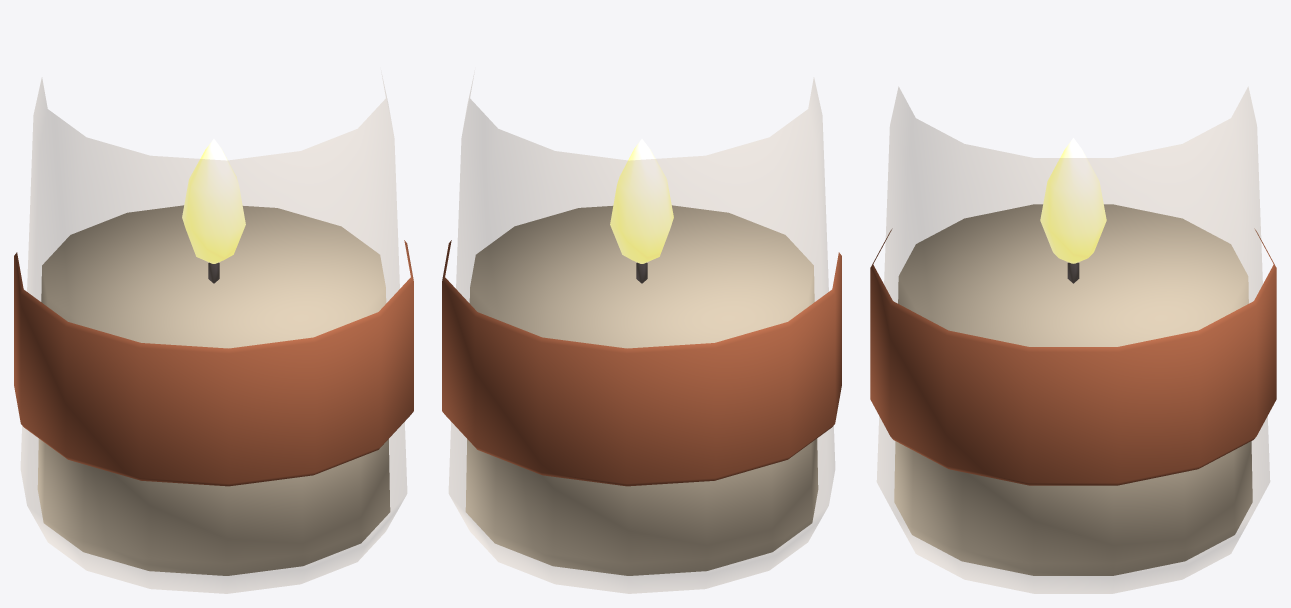
The model's file is jar_candle.glb.
3 views of the same model, side by side, from view 1: azimuth 30°, elevation 25°; view 2: azimuth 150°, elevation 25°; view 3: azimuth 270°, elevation 25° (orthographic).
Visible parts, largest first — view 1: jar_candle, flame; view 2: jar_candle, flame; view 3: jar_candle, flame.
Part boxes in pixels (x1,y1,x2,y2): jar_candle: (14,76,413,593); flame: (182,139,245,263); jar_candle: (442,76,841,593); flame: (610,139,673,263); jar_candle: (870,87,1276,593); flame: (1040,138,1106,263).
Bounding box in the file's own units: 0.0907 × 0.11 × 0.093.
